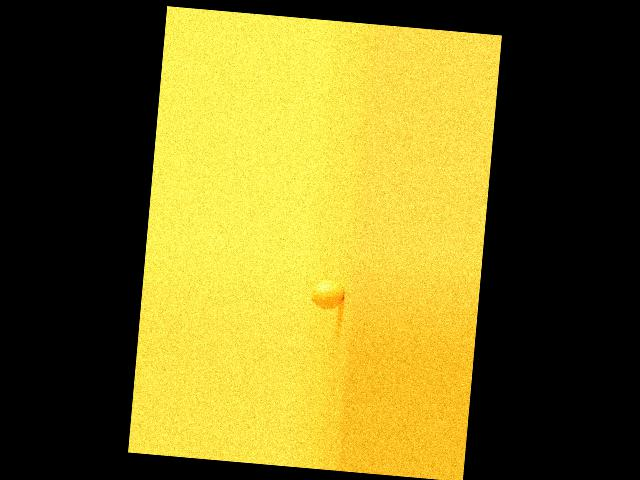lemon: (306, 271, 346, 313)
